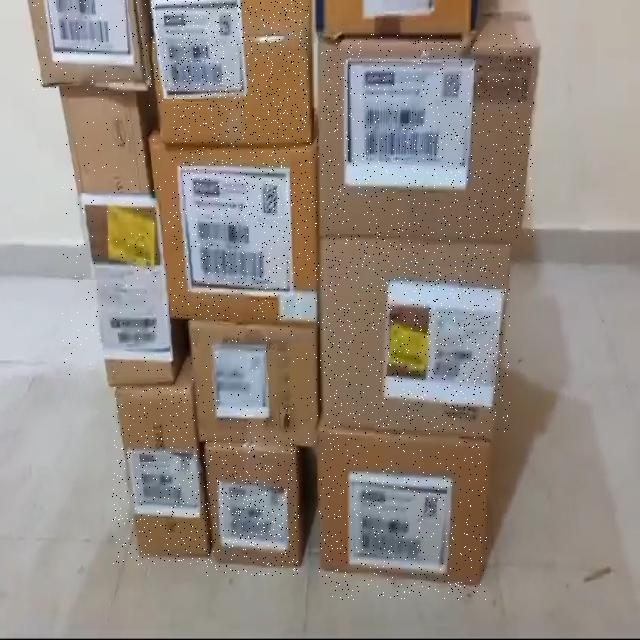BoxFace: (320, 34, 534, 238), (320, 237, 510, 434), (149, 139, 319, 328), (62, 91, 172, 378), (319, 437, 487, 600), (148, 0, 309, 151), (112, 387, 205, 565), (188, 320, 318, 443), (204, 436, 299, 576), (32, 0, 149, 98)
